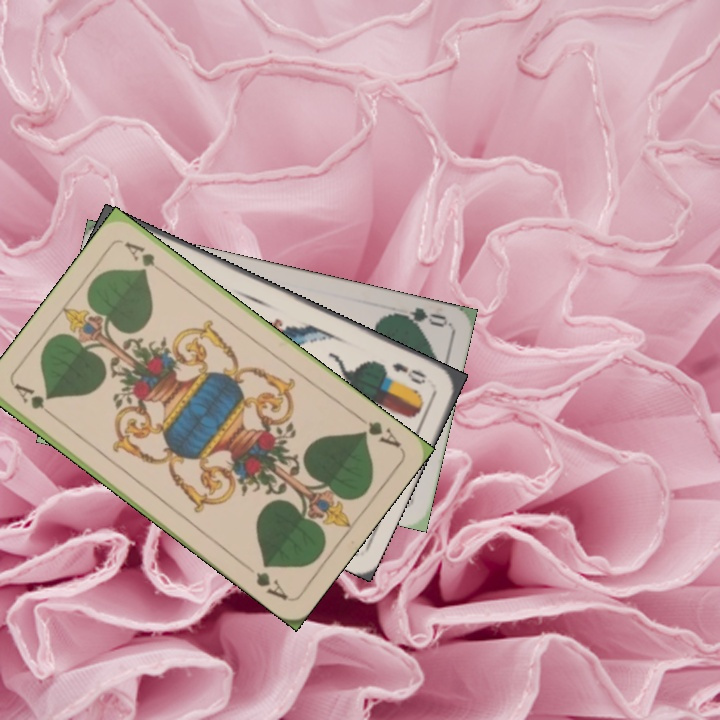EO: (388, 358, 429, 387)
GA: (10, 379, 60, 423), (352, 410, 404, 451)
GO: (388, 303, 449, 332)
